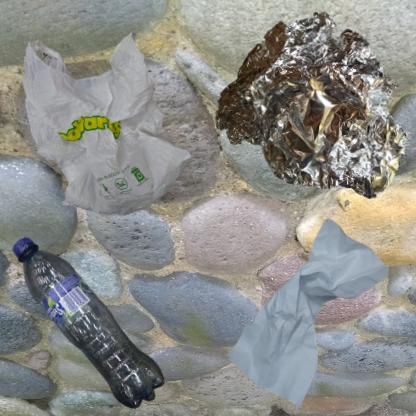aluminio: (213, 10, 409, 201)
bolsa: (10, 10, 213, 246)
botella: (10, 213, 185, 416)
papel: (213, 213, 403, 416)
